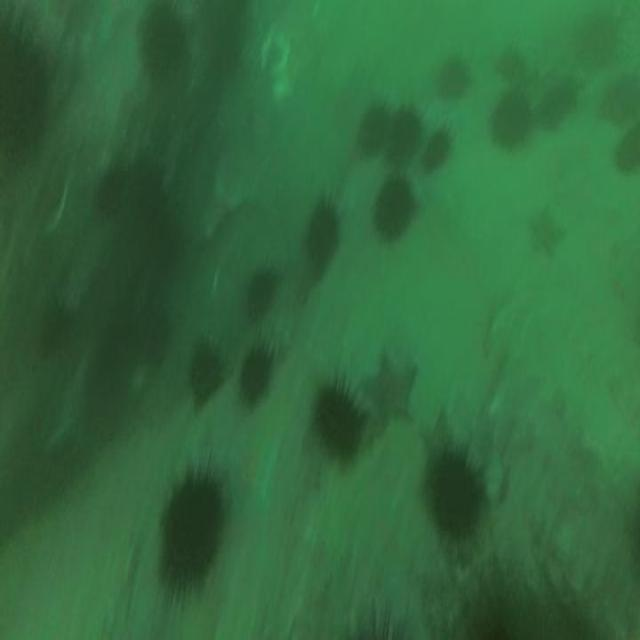echinus: (160, 482, 222, 578), (424, 448, 483, 540), (315, 384, 360, 463), (140, 3, 184, 82), (375, 178, 416, 238), (579, 13, 624, 66), (493, 88, 532, 147), (540, 74, 578, 131), (126, 156, 162, 215), (306, 201, 338, 267), (150, 212, 182, 272), (604, 71, 640, 123), (188, 344, 222, 396), (386, 108, 419, 161), (239, 346, 269, 403), (357, 104, 388, 158), (245, 267, 278, 316), (98, 164, 124, 217), (616, 126, 640, 177), (440, 54, 469, 95), (424, 130, 451, 169)
starfish: (363, 349, 416, 422), (529, 202, 565, 258)
